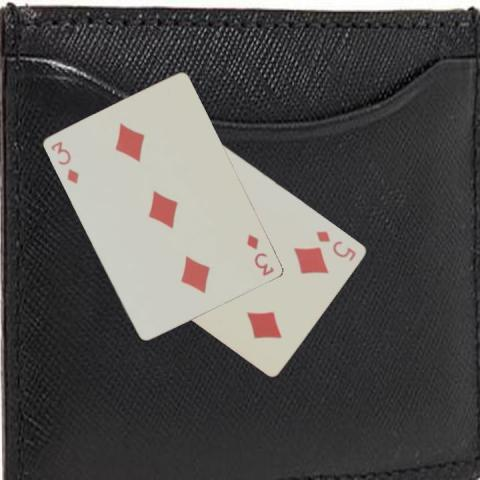3d: (47, 138, 80, 185), (243, 231, 274, 277)
5d: (313, 227, 358, 263)
